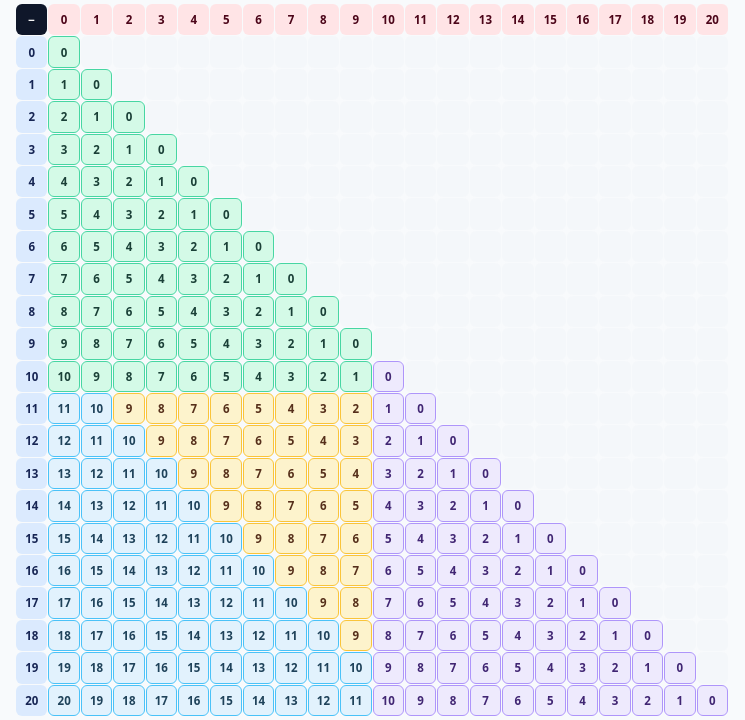
Scenario: Subtraction map interactions › shows operation information in a tooltip only after clicking a fact
Click the button named "12 − 6 = 6" at [259, 441], box [243,425,274,457]
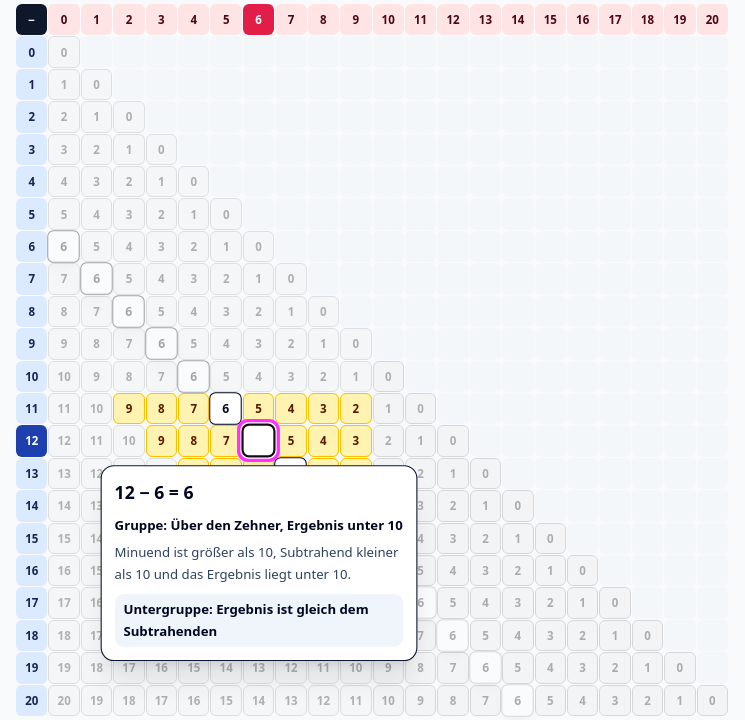
Check: the text "12 − 6 = 6" is shown, box [114,481,194,506]
Check: the text "Gruppe: Über den Zehner, Ergebnis unter 10" is shown, box [114,516,403,538]
Check: the text "Untergruppe: Ergebnis ist gleich dem Subtrahenden" is shown, box [114,595,403,648]
